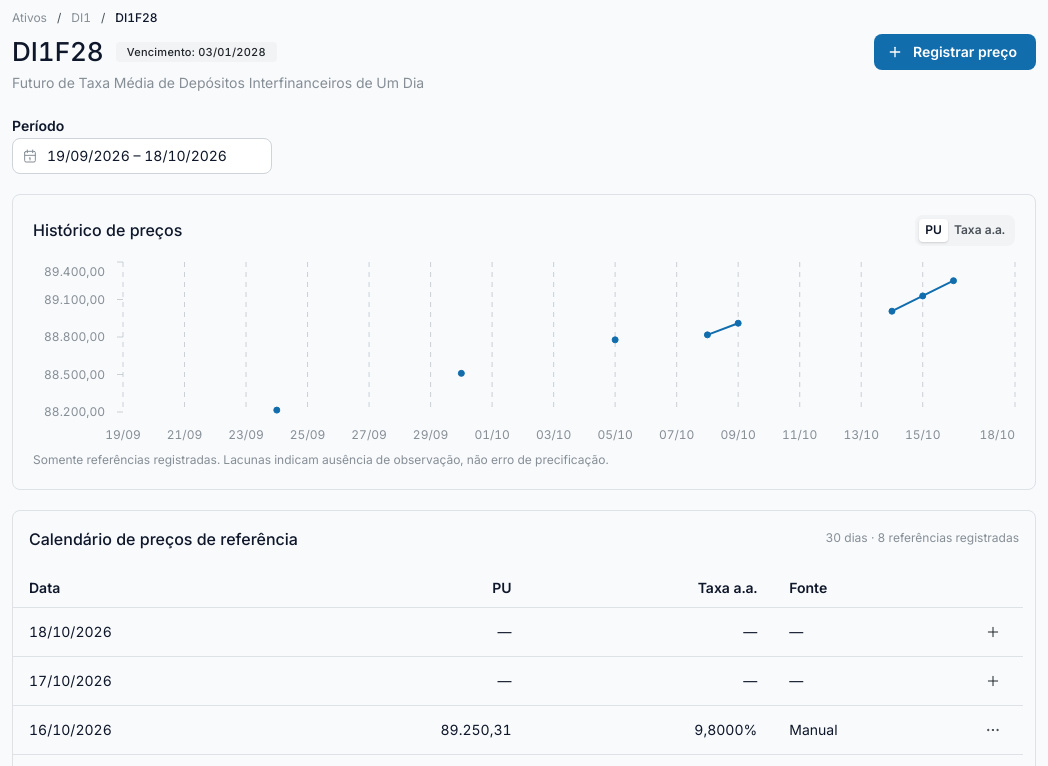
Scenario: Ativos: contrato (§11.2) › §5 the row menu offers Corrigir and Remover; there is no "Ver revisões"
expect the heading "DI1F28" is shown: met, box left=12, top=34, right=104, bottom=69
Click the button named "Ações de 16/10/2026" at [993, 730], box left=979, top=716, right=1007, bottom=744
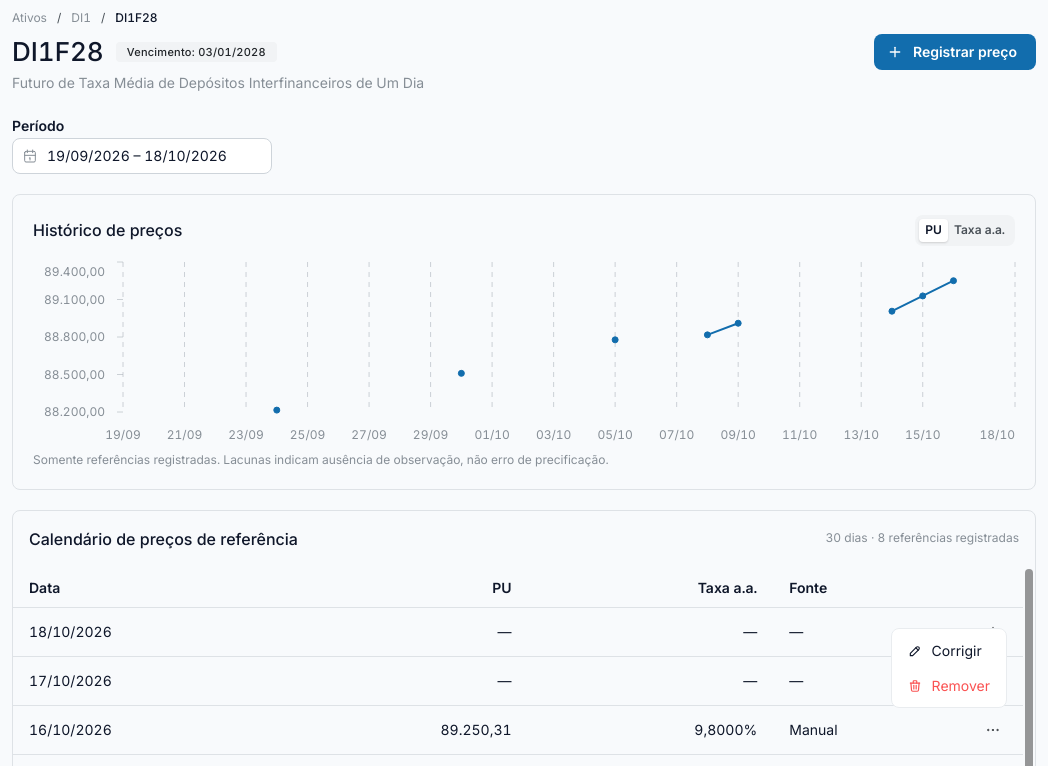
expect the menu item "Corrigir" is shown: met, box left=896, top=633, right=1002, bottom=668
expect the menu item "Remover" is shown: met, box left=896, top=668, right=1002, bottom=703
